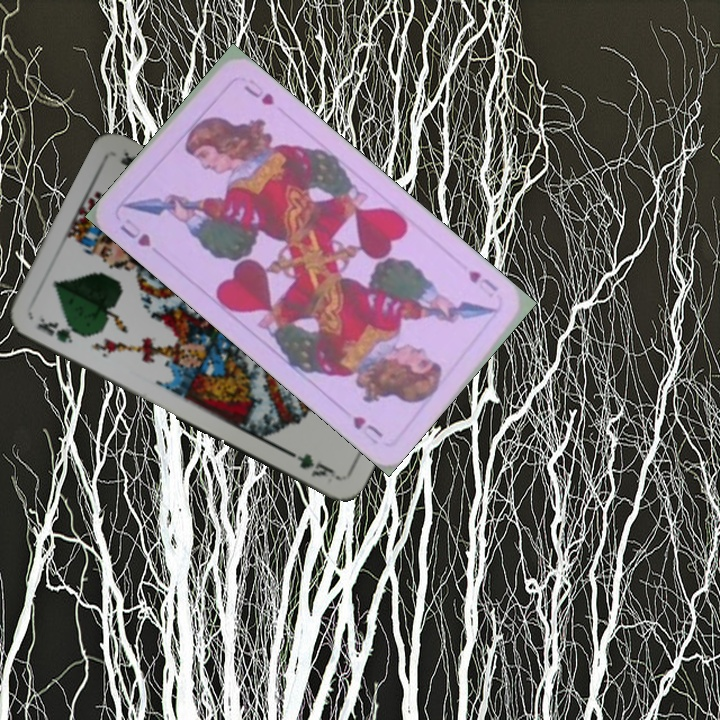GK: (33, 313, 87, 346)
HU: (115, 214, 154, 250), (464, 266, 501, 301)
